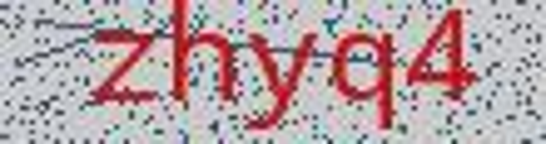4: (403, 3, 482, 111)
h: (165, 1, 241, 108)
q: (328, 20, 402, 135)
y: (242, 29, 319, 142)
z: (84, 22, 161, 114)
